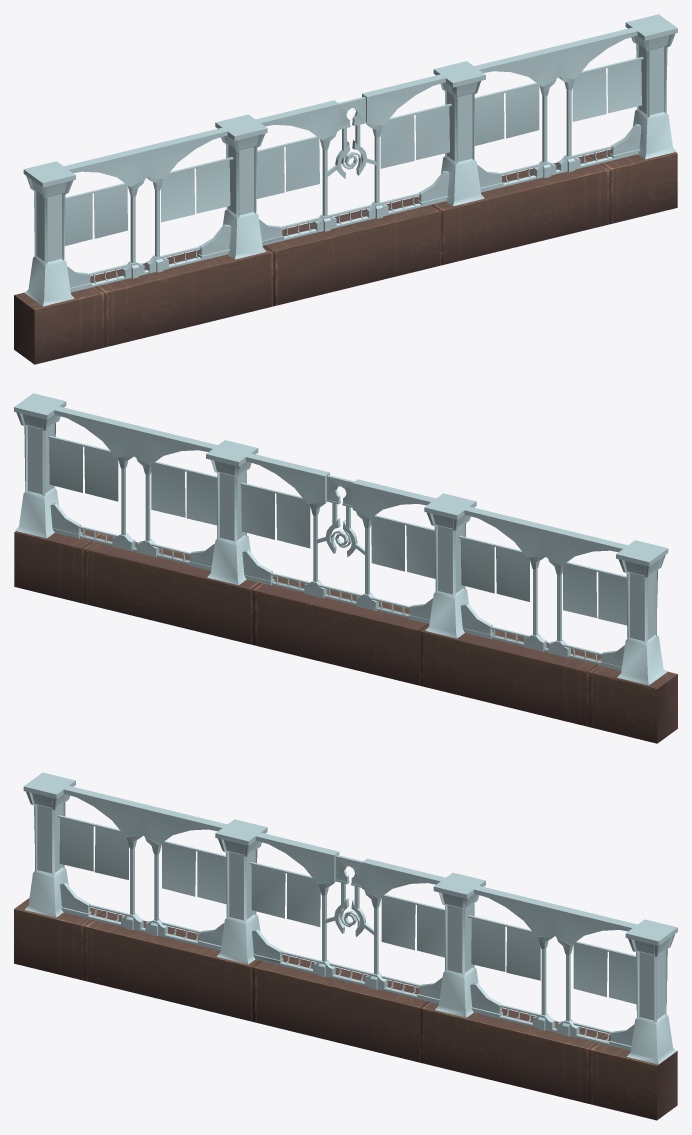
Rendered from prop_Abyss Pillars_Background.fbx.
3 views of the same model, one above another, from view 1: azimuth 30°, elevation 25°; view 2: azimuth 150°, elevation 25°; view 3: azimuth 330°, elevation 25° (orthographic).
Parts seen in each view (by area): view 1: prop_Abyss Pillars_Background; view 2: prop_Abyss Pillars_Background; view 3: prop_Abyss Pillars_Background.
Part boxes in pixels (x1,y1,x2,y2): prop_Abyss Pillars_Background: (14,14,677,364); prop_Abyss Pillars_Background: (14,393,677,743); prop_Abyss Pillars_Background: (14,772,677,1120).
Bounding box in the file's own units: 6360 × 1687 × 353.
